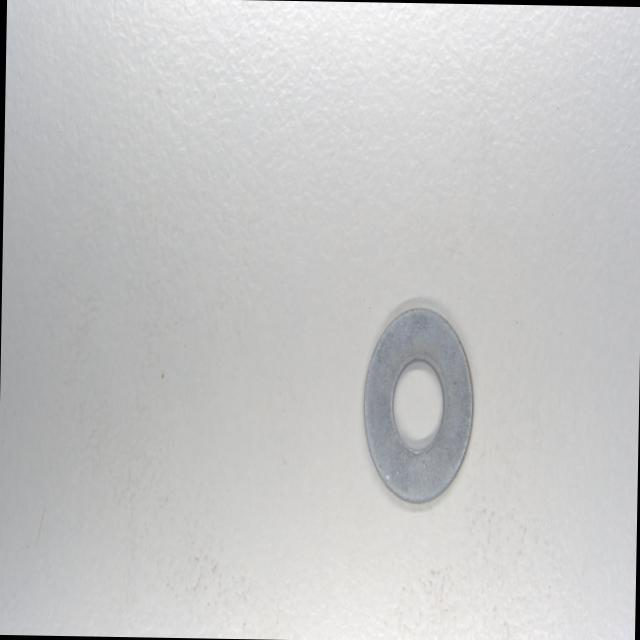washer: (360, 301, 475, 506)
